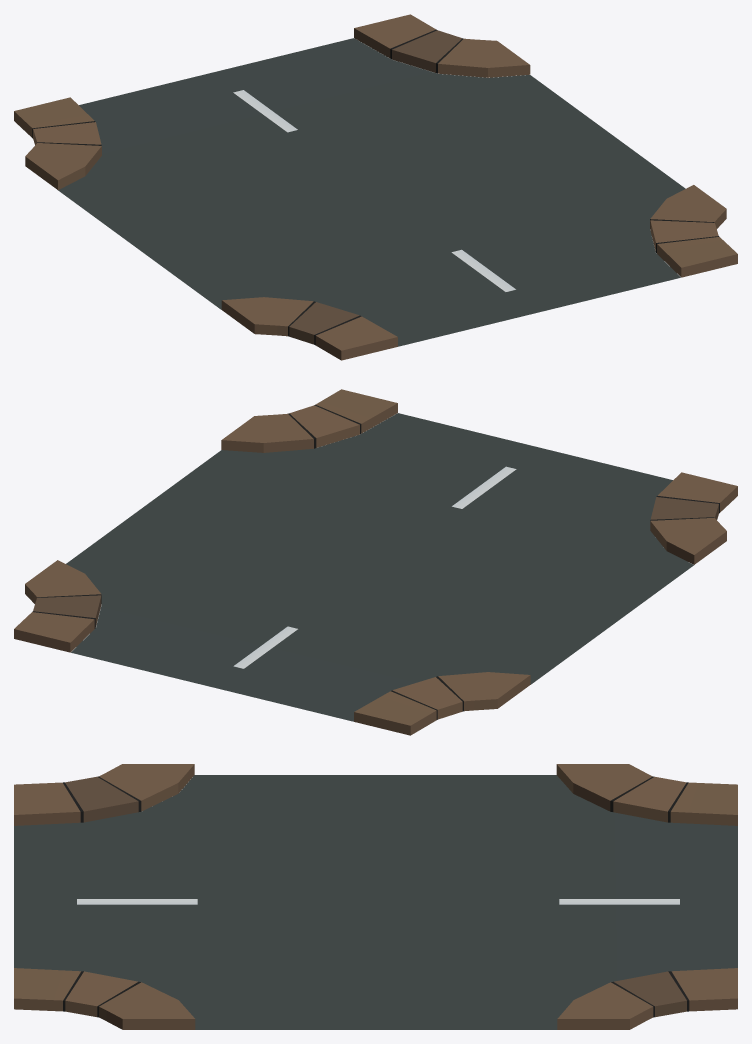
File: Road_1_113.fbx
3 views of the same model, one above another, from view 1: azimuth 30°, elevation 25°; view 2: azimuth 150°, elevation 25°; view 3: azimuth 270°, elevation 25° (orthographic). The views are drawn at different scales.
Parts seen in each view (by area): view 1: Road_1_113; view 2: Road_1_113; view 3: Road_1_113.
Boxes of the visible parts, box(x1,y1,x2,y2) form: Road_1_113: box(14, 14, 737, 360); Road_1_113: box(14, 389, 737, 735); Road_1_113: box(14, 764, 737, 1029).
Bounding box in the file's own units: 1500 × 30 × 1800.
